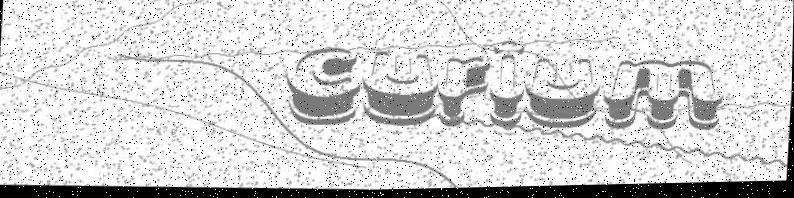c: (285, 46, 364, 130)
i: (488, 40, 528, 131)
m: (601, 58, 727, 136)
r: (438, 56, 491, 132)
u: (359, 50, 441, 130), (525, 57, 603, 133)
